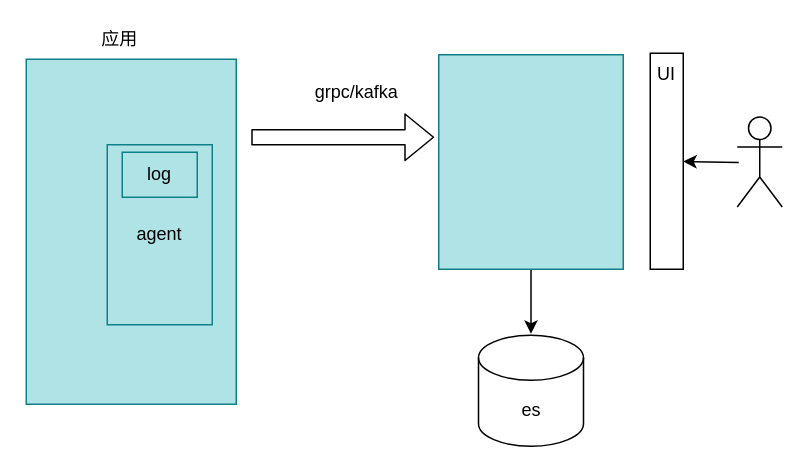
Image size: 809x473. Some labels were removed from this diagram. Here are the shapes that lost their labels. From the top down, the centre of each, then its label:
the point at 530,161: oap
the point at 759,161: user
